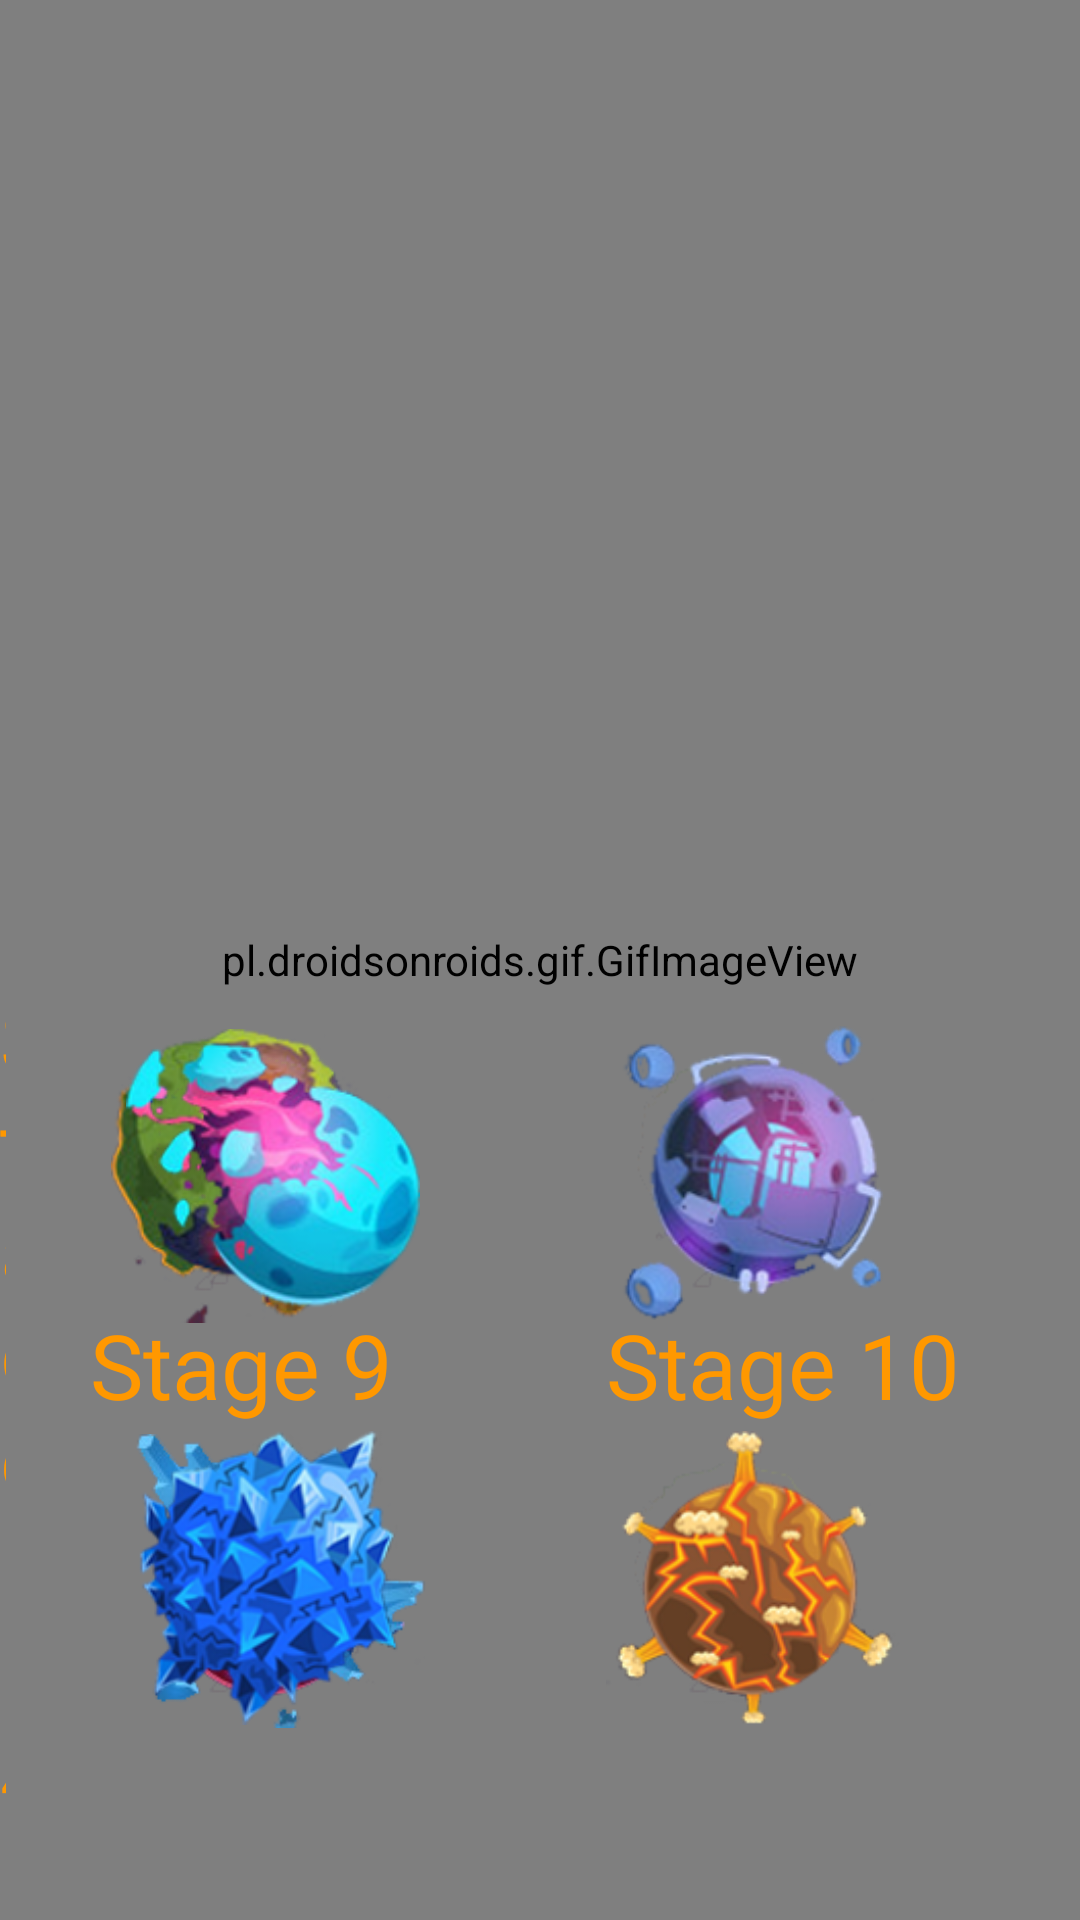

Where to tap for icons on this 1080px×1920px app screen, as (x=x, y=y):
erupt planet: (x=755, y=1577)
indigo planet: (x=753, y=1173)
